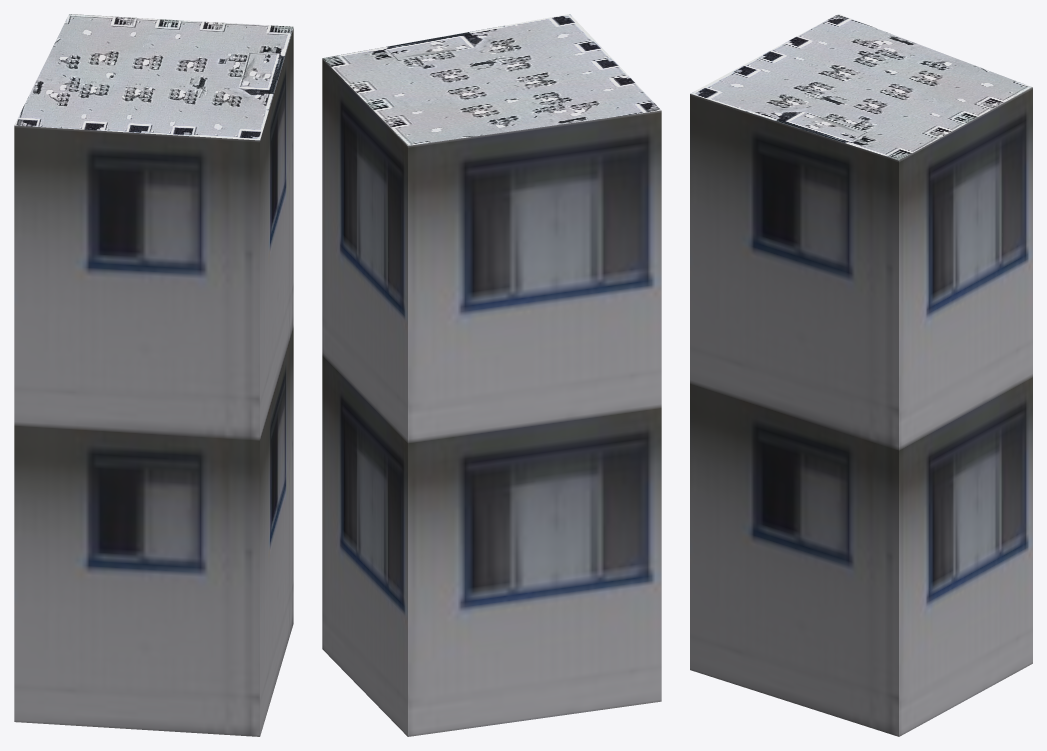
Rendered from ResTex__1982.fbx.
3 renders of one model, left to right at view 1: azimuth 30°, elevation 25°; view 2: azimuth 150°, elevation 25°; view 3: azimuth 270°, elevation 25°, orthographic. The views are drawn at different scales.
Visible parts, largest first — view 1: CityEngineMaterial_9_m, CityEngineMaterial_8_m; view 2: CityEngineMaterial_9_m, CityEngineMaterial_8_m; view 3: CityEngineMaterial_9_m, CityEngineMaterial_8_m.
Boxes of the visible parts, x1,y1,x2,y2 form: CityEngineMaterial_9_m: [14, 28, 293, 736]; CityEngineMaterial_8_m: [14, 14, 293, 140]; CityEngineMaterial_9_m: [322, 58, 661, 736]; CityEngineMaterial_8_m: [322, 14, 661, 145]; CityEngineMaterial_9_m: [690, 87, 1032, 736]; CityEngineMaterial_8_m: [690, 14, 1032, 160].
Bounding box in the file's own units: 3.27 × 6 × 3.23.
2 materials, 2 textured.
